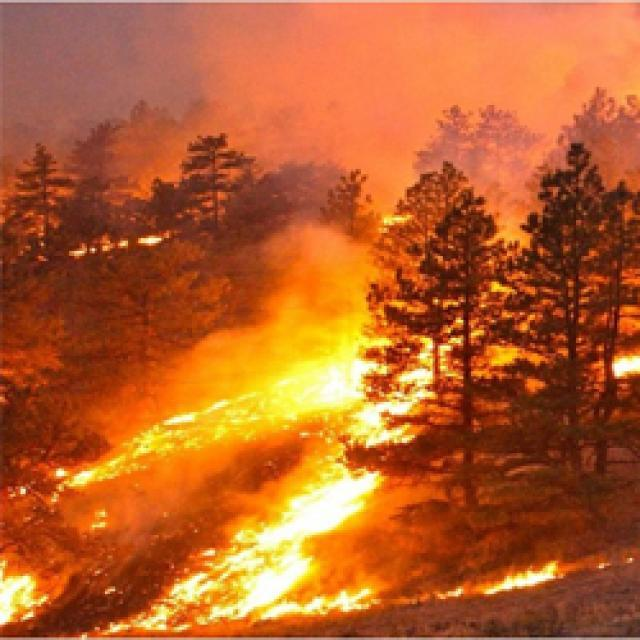Fire: (276, 337, 424, 452), (38, 413, 176, 493), (257, 452, 383, 531), (184, 526, 318, 587), (71, 578, 181, 640), (177, 391, 266, 444), (180, 579, 262, 629), (0, 548, 49, 627), (264, 590, 381, 617), (480, 561, 562, 593), (380, 209, 413, 238), (609, 351, 640, 376), (66, 240, 100, 258), (117, 235, 163, 248), (431, 586, 466, 600)
Smoke: (92, 0, 640, 197), (252, 212, 376, 334), (163, 324, 276, 392)
